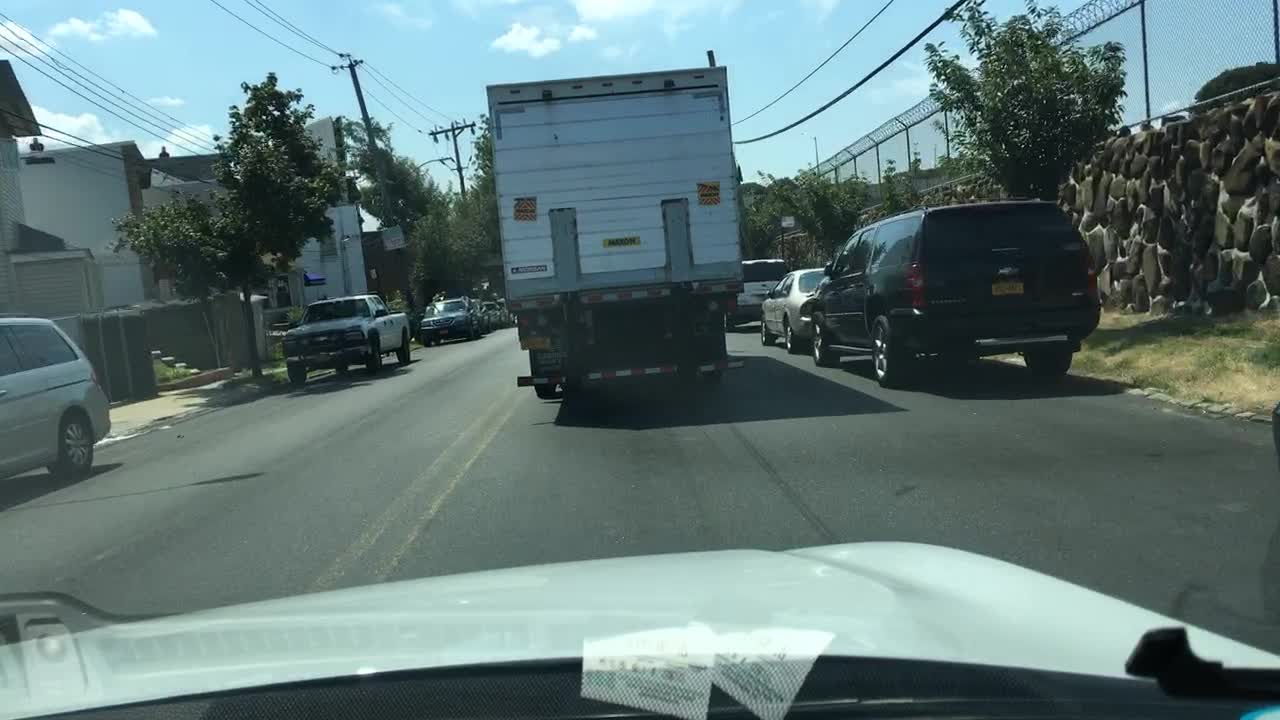car: (801, 198, 1100, 388), (0, 316, 112, 484), (754, 267, 823, 351), (723, 258, 787, 334), (416, 293, 474, 346), (482, 295, 506, 326), (470, 294, 489, 331), (506, 313, 516, 330)
traffic sign: (380, 223, 405, 252), (305, 273, 326, 286), (781, 213, 792, 232)
truck: (481, 48, 746, 400), (277, 294, 410, 385)
